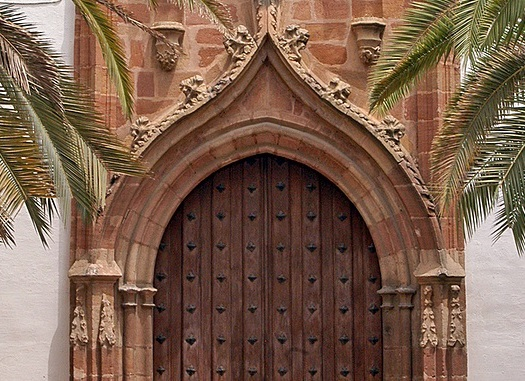arco-apuntado: (140, 139, 402, 322)
arco-conopial: (136, 22, 410, 149)
